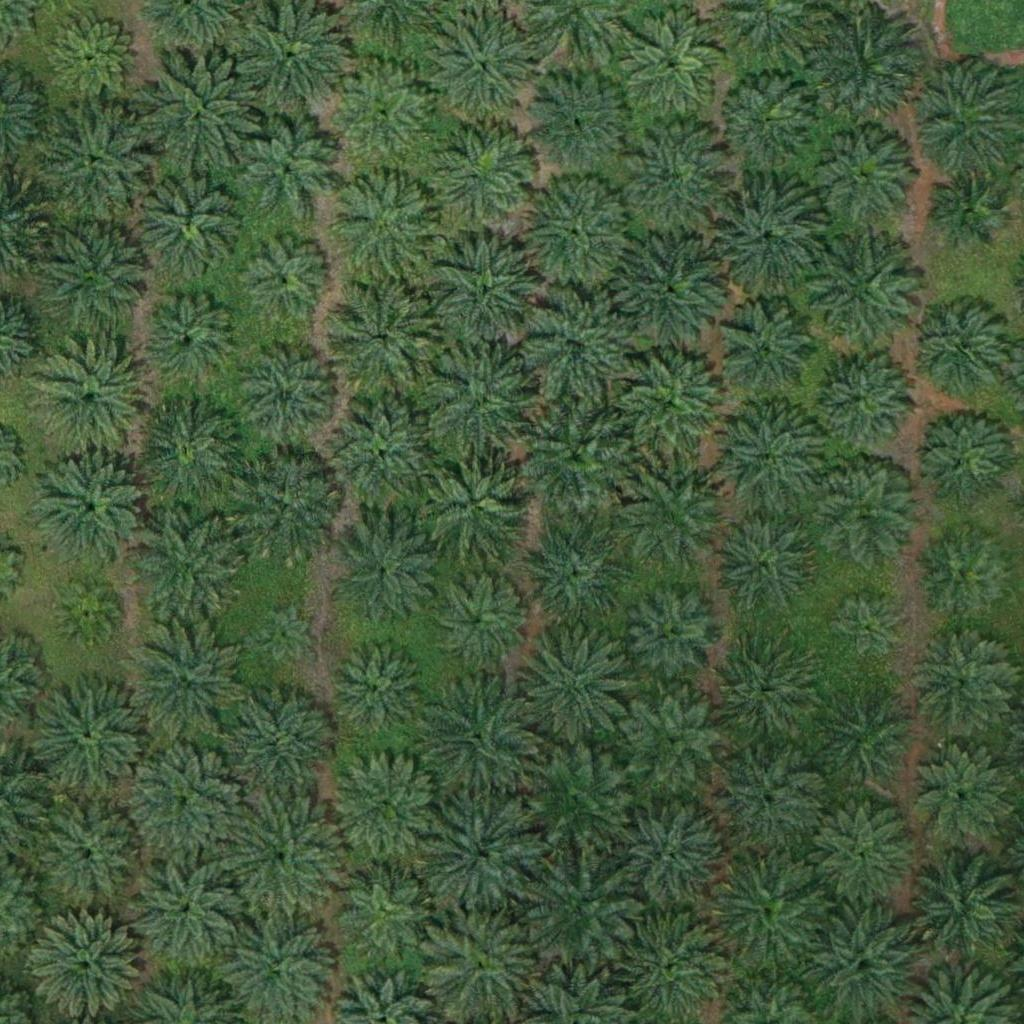Kelapa_Sawit: (908, 65, 1021, 179), (517, 739, 630, 853), (423, 675, 536, 789), (329, 519, 442, 633), (524, 849, 637, 963), (33, 344, 146, 457), (330, 172, 443, 285), (322, 281, 435, 394), (519, 65, 632, 178), (622, 119, 735, 232), (614, 229, 727, 342), (715, 404, 828, 517), (616, 350, 729, 463), (427, 349, 540, 462), (418, 448, 531, 561), (423, 797, 536, 910), (327, 400, 440, 513), (126, 621, 239, 734), (130, 744, 243, 857), (35, 455, 148, 568), (32, 681, 145, 794), (125, 856, 238, 969), (424, 910, 537, 1023), (713, 848, 826, 961), (810, 908, 923, 1021), (41, 105, 153, 219), (38, 217, 150, 331), (135, 285, 247, 399), (809, 4, 921, 118), (806, 119, 918, 233), (612, 800, 724, 914), (229, 454, 341, 568), (132, 397, 244, 511), (620, 908, 732, 1022), (142, 55, 254, 168), (136, 168, 248, 281), (425, 12, 537, 125), (430, 236, 542, 349), (518, 179, 630, 292), (519, 291, 631, 404), (710, 172, 822, 285), (808, 237, 920, 350), (711, 745, 823, 858), (618, 461, 730, 574), (521, 401, 633, 514), (517, 513, 629, 626), (519, 625, 631, 738), (330, 752, 442, 865), (224, 686, 336, 799), (226, 799, 338, 912), (135, 510, 247, 623), (32, 800, 144, 913), (907, 849, 1019, 962), (235, 117, 335, 218), (331, 63, 431, 164), (431, 123, 531, 224), (621, 10, 721, 111), (716, 301, 816, 402), (913, 404, 1013, 505), (917, 523, 1017, 624), (909, 631, 1009, 732), (909, 742, 1009, 843), (813, 349, 913, 450), (814, 461, 914, 562), (816, 687, 916, 788), (814, 803, 914, 904), (714, 510, 814, 611), (711, 643, 811, 744), (624, 587, 724, 688), (624, 690, 724, 791), (335, 857, 435, 958), (238, 346, 338, 446), (717, 67, 817, 167), (906, 300, 1006, 400), (428, 569, 528, 669), (326, 638, 426, 738), (47, 14, 135, 102), (244, 236, 331, 324), (929, 169, 1004, 245), (827, 593, 902, 668), (56, 582, 119, 645), (253, 602, 315, 665)
